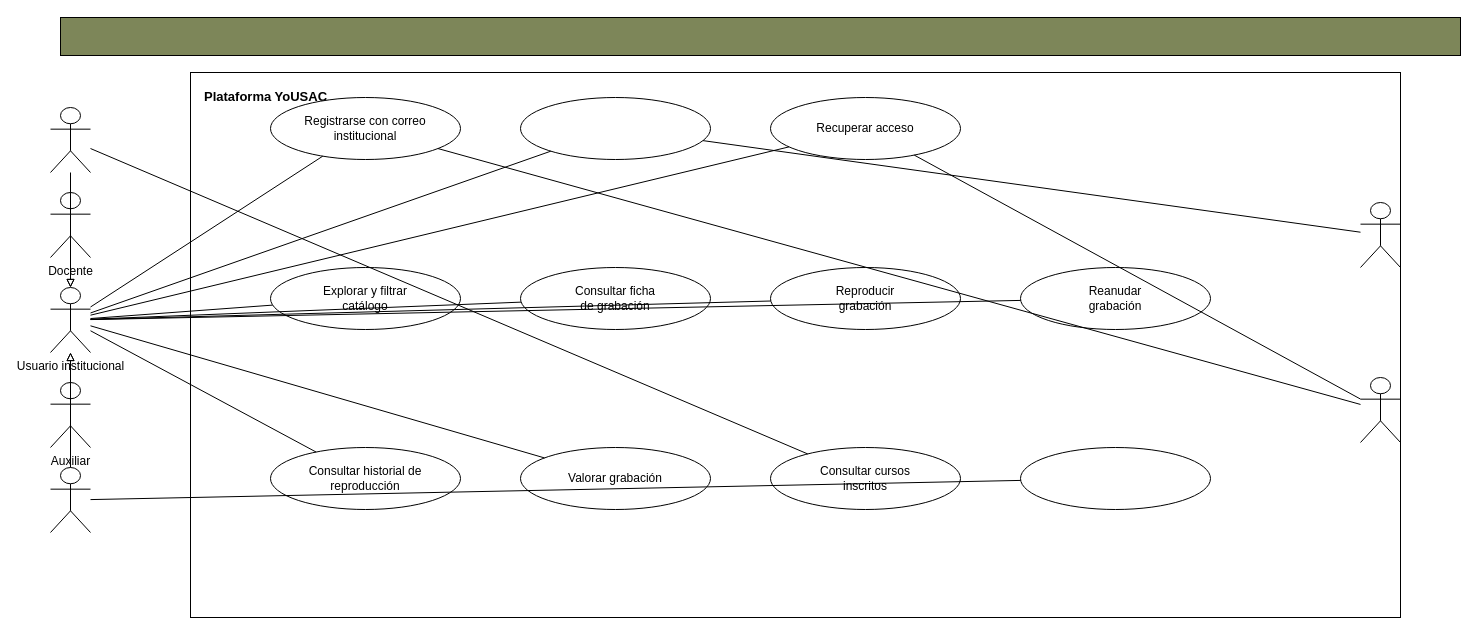
This 1478x635 diagram has some shape labels left out. Here are the shapes that lost their labels. From the top down, the box of each, then its label:
(60, 16, 1460, 56): Plataforma YoUSAC — Casos de uso de alto nivel
(50, 106, 90, 172): Estudiante
(520, 96, 710, 160): Iniciar sesión institucional
(1360, 202, 1400, 268): Proveedor OAuth institucional
(1360, 376, 1400, 442): Servicio de correo institucional
(1020, 446, 1210, 510): Gestionar roles y permisos
(50, 466, 90, 532): Administrador
